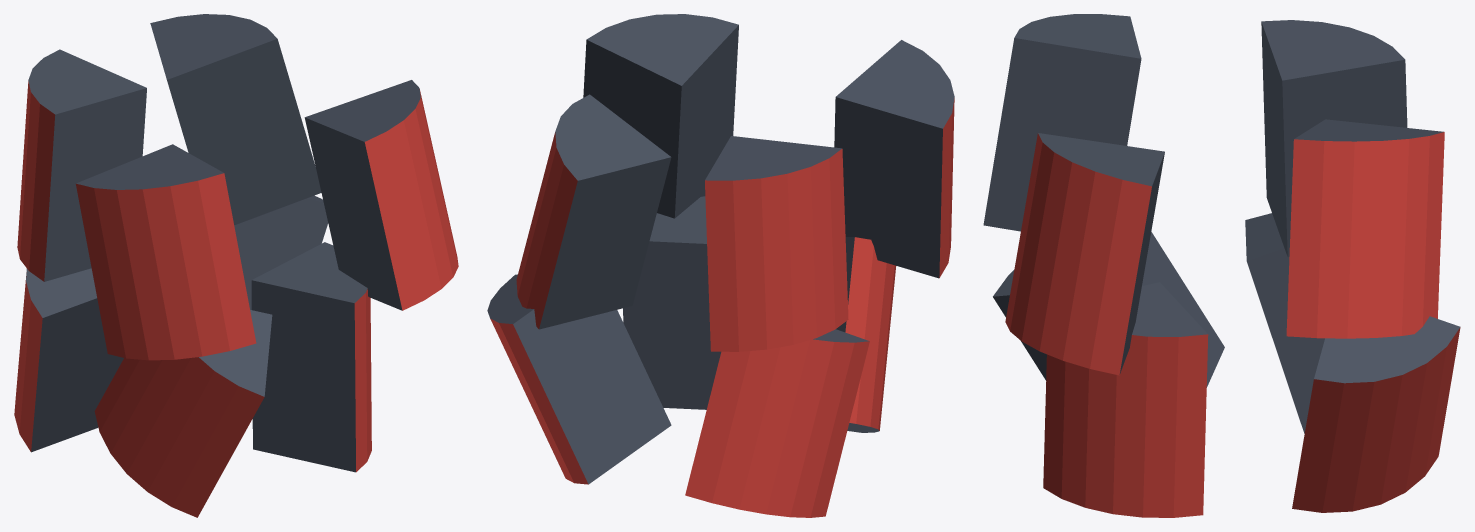
File: prop_barrel_a_broken.glb
3 renders of one model, left to right at view 1: azimuth 30°, elevation 25°; view 2: azimuth 150°, elevation 25°; view 3: azimuth 270°, elevation 25°, orthographic. The views are drawn at different scales.
Visible parts, largest first — view 1: prop_barrel_a_chunk_07, prop_barrel_a_chunk_08, prop_barrel_a_chunk_05, prop_barrel_a_chunk_04, prop_barrel_a_chunk_03, prop_barrel_a_chunk_06, prop_barrel_a_chunk_02, prop_barrel_a_chunk_01; view 2: prop_barrel_a_chunk_06, prop_barrel_a_chunk_02, prop_barrel_a_chunk_05, prop_barrel_a_chunk_07, prop_barrel_a_chunk_08, prop_barrel_a_chunk_01, prop_barrel_a_chunk_04, prop_barrel_a_chunk_03; view 3: prop_barrel_a_chunk_05, prop_barrel_a_chunk_04, prop_barrel_a_chunk_08, prop_barrel_a_chunk_01, prop_barrel_a_chunk_07, prop_barrel_a_chunk_06, prop_barrel_a_chunk_02, prop_barrel_a_chunk_03.
Part boxes in pixels (box(x1,y1,x2,y2)): prop_barrel_a_chunk_07: box(76, 144, 256, 360); prop_barrel_a_chunk_08: box(304, 80, 458, 310); prop_barrel_a_chunk_05: box(150, 14, 321, 225); prop_barrel_a_chunk_04: box(251, 242, 371, 472); prop_barrel_a_chunk_03: box(94, 310, 272, 517); prop_barrel_a_chunk_06: box(17, 49, 146, 281); prop_barrel_a_chunk_02: box(14, 268, 123, 452); prop_barrel_a_chunk_01: box(234, 195, 328, 309); prop_barrel_a_chunk_06: box(705, 136, 848, 351); prop_barrel_a_chunk_02: box(685, 329, 869, 517); prop_barrel_a_chunk_05: box(516, 94, 671, 329); prop_barrel_a_chunk_07: box(834, 40, 954, 278); prop_barrel_a_chunk_08: box(583, 14, 738, 218); prop_barrel_a_chunk_01: box(487, 274, 671, 484); prop_barrel_a_chunk_04: box(623, 196, 721, 409); prop_barrel_a_chunk_03: box(836, 237, 896, 432); prop_barrel_a_chunk_05: box(1286, 119, 1444, 338); prop_barrel_a_chunk_04: box(1043, 282, 1208, 517); prop_barrel_a_chunk_08: box(1005, 133, 1164, 375); prop_barrel_a_chunk_01: box(1292, 316, 1460, 512); prop_barrel_a_chunk_07: box(983, 14, 1141, 231); prop_barrel_a_chunk_06: box(1261, 20, 1407, 256); prop_barrel_a_chunk_02: box(1245, 213, 1324, 433); prop_barrel_a_chunk_03: box(993, 232, 1224, 387).
Size of the model in its own units: 1.04 by 0.9954 by 1.07.
